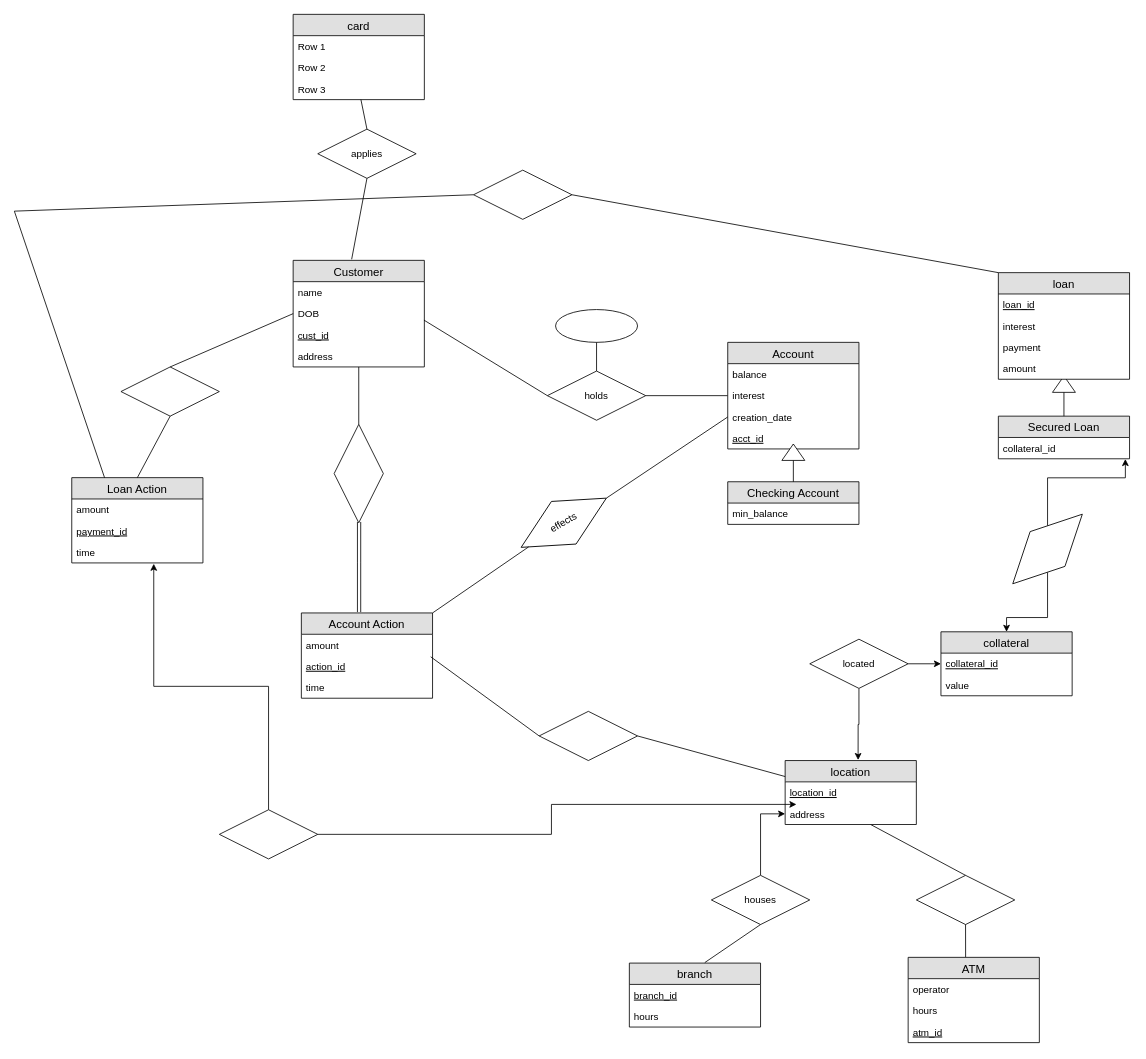
This 1146x1059 diagram has some shape labels left out. The shapes that lost their labels are listed below. From the top down, each one's centre as x and y in pixels, then its label:
the point at 522,194: pays_down
the point at 596,325: add_date
the point at 169,391: pays
the point at 358,473: performs
the point at 1047,548: backs
the point at 588,736: happens
the point at 268,834: payment_location
the point at 965,900: contains
